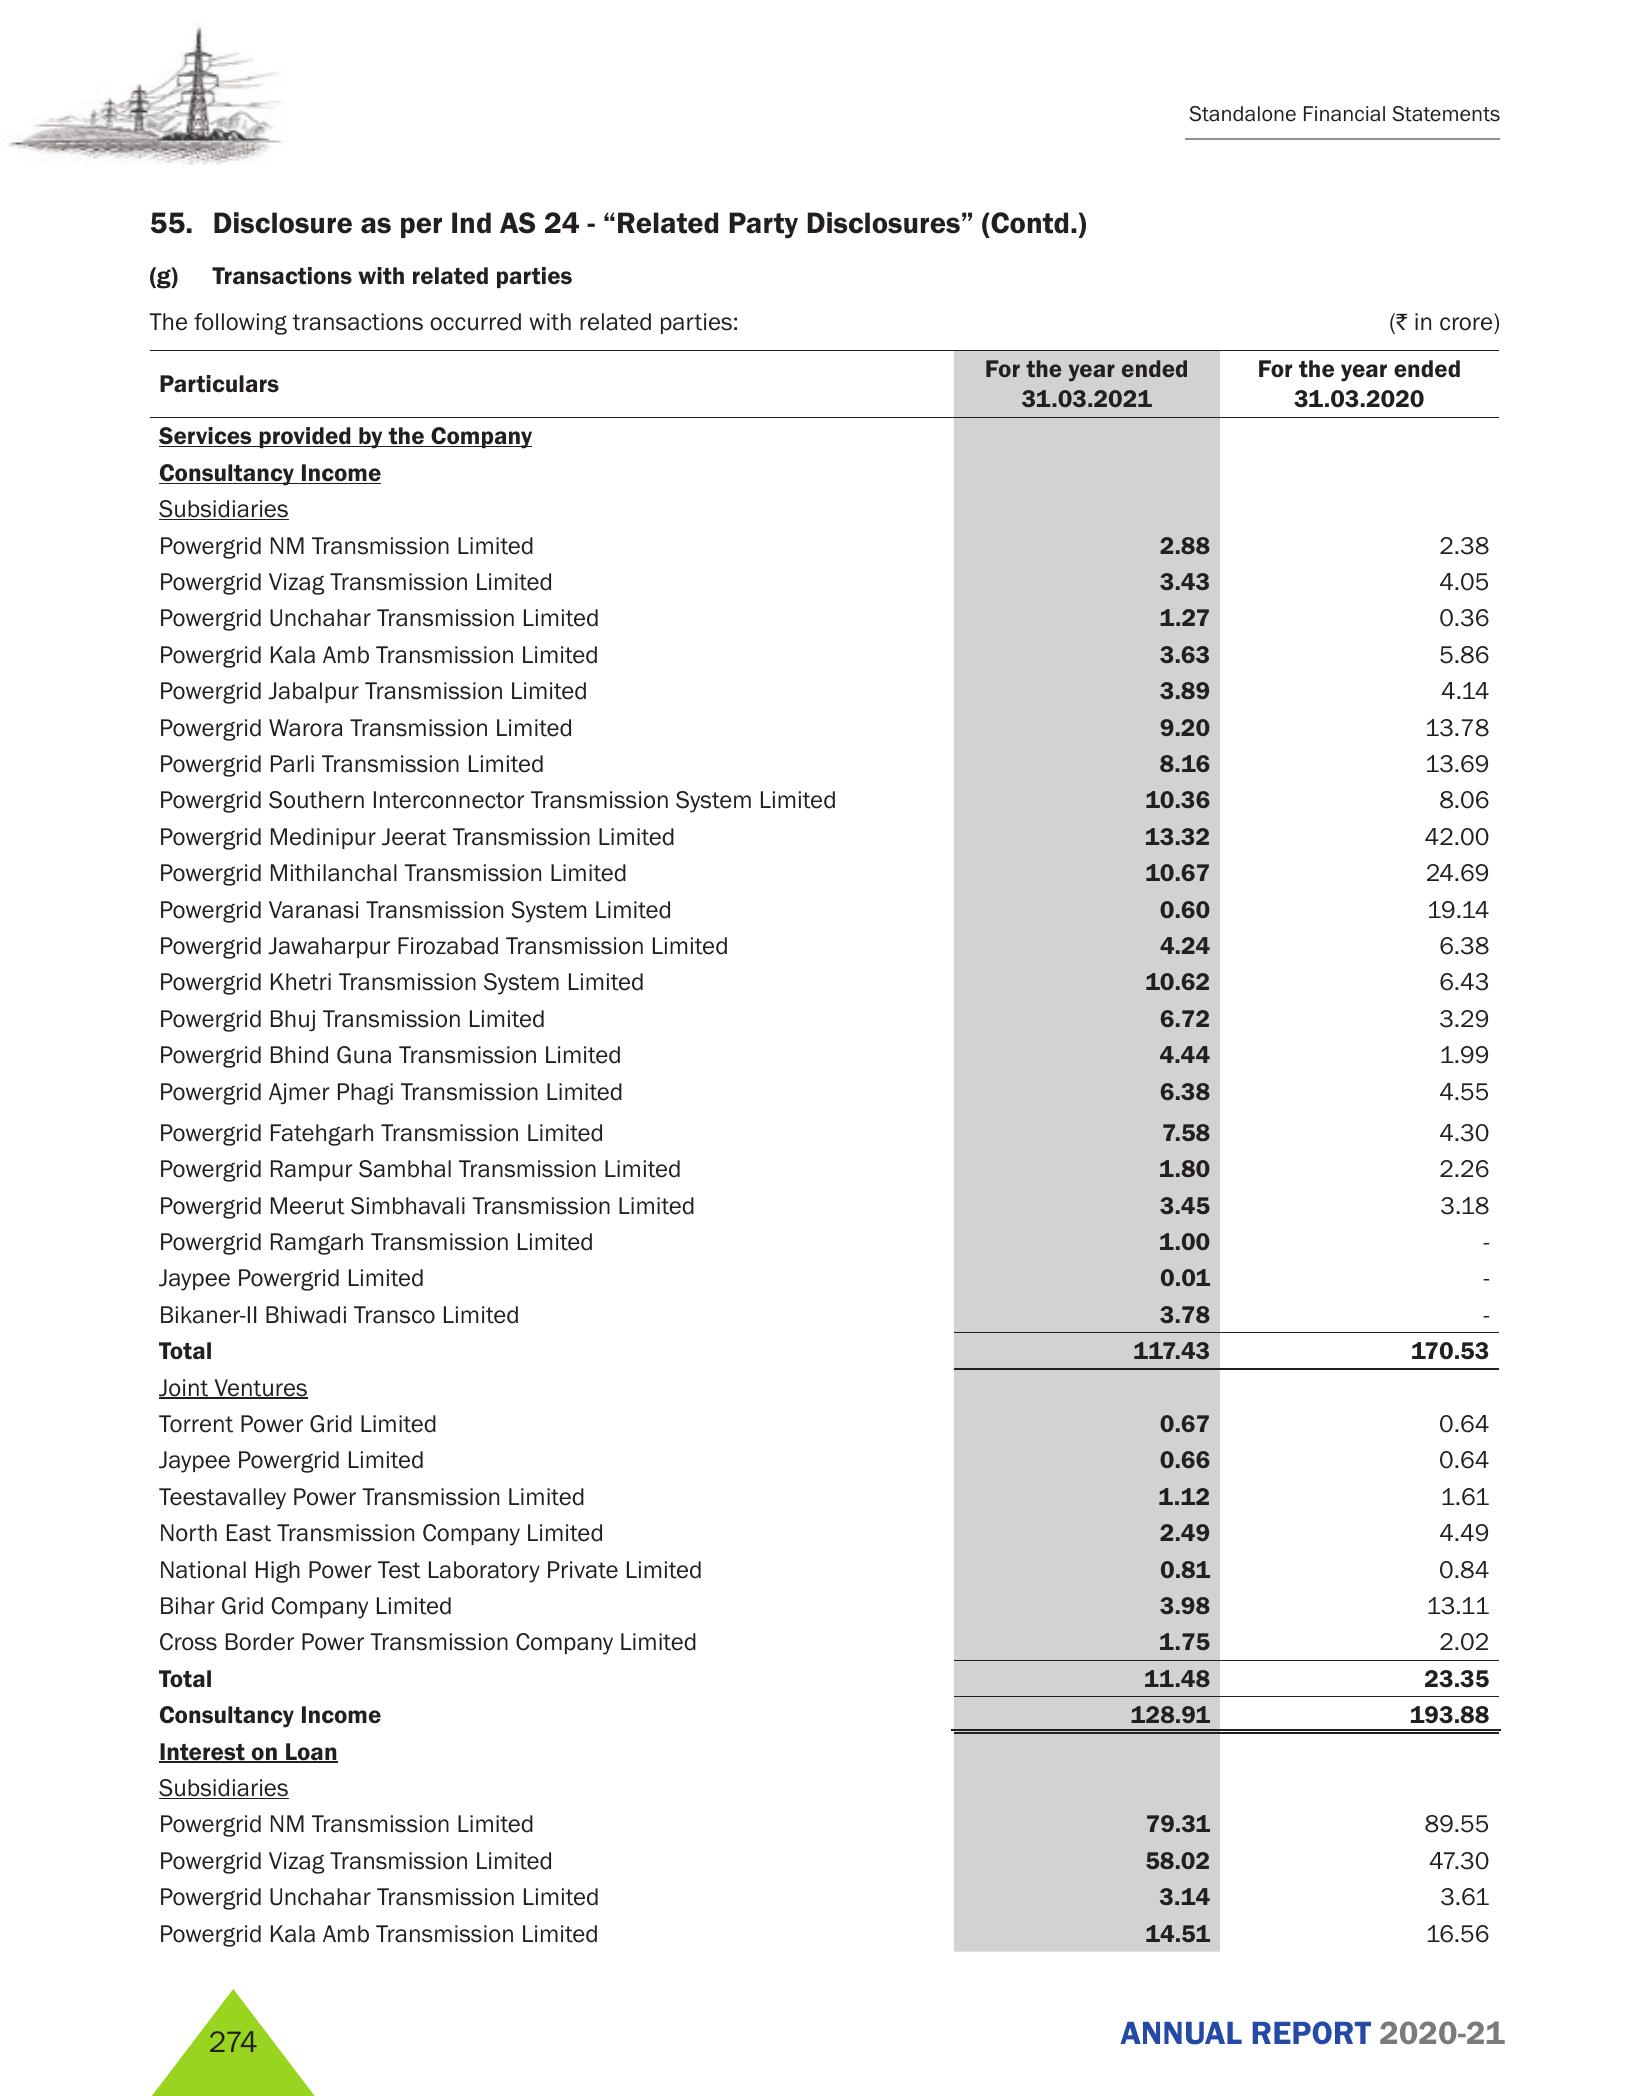Footer: (0, 1953, 1650, 2096)
Header: (0, 0, 1650, 168)
Table: (111, 339, 1516, 1982)
